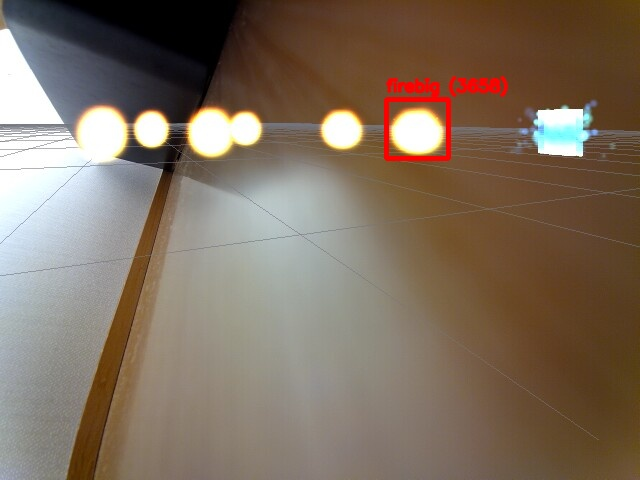firebig: (386, 99, 448, 158)
